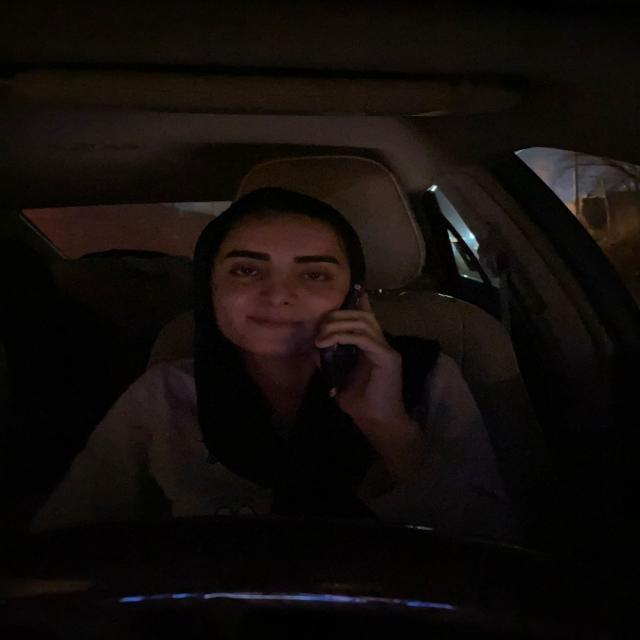phone: (336, 280, 366, 382)
